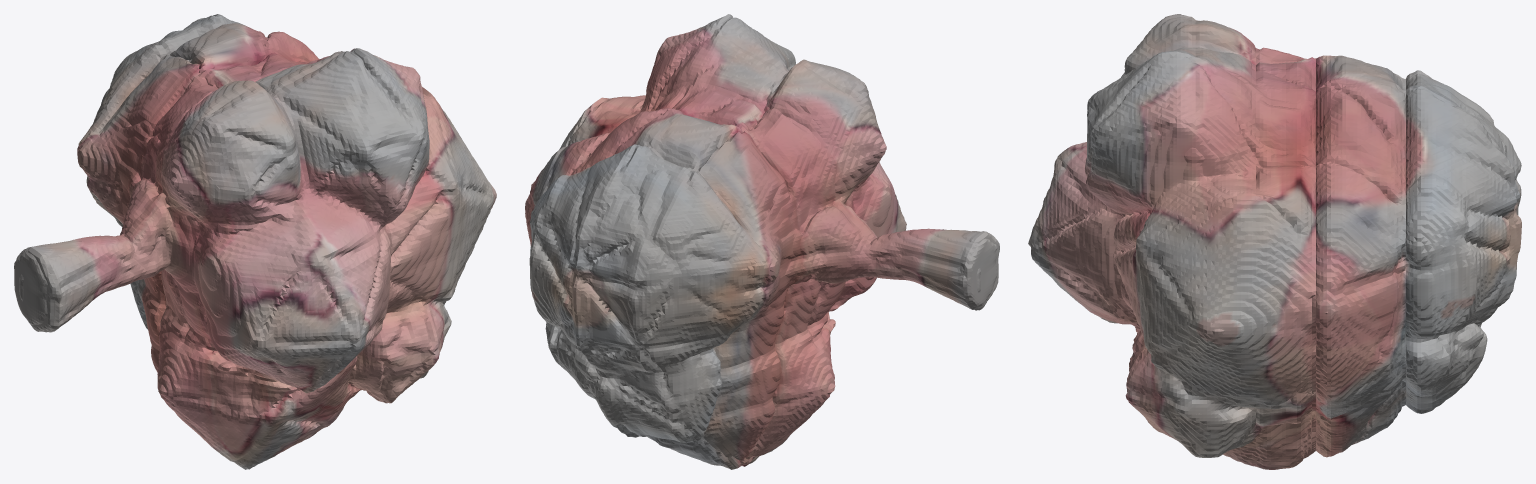
File: tree_tsr.glb
The picture shows the model from 3 angles, left to right: view 1: azimuth 30°, elevation 25°; view 2: azimuth 150°, elevation 25°; view 3: azimuth 270°, elevation 25°; orthographic projection. The views are drawn at different scales.
Parts seen in each view (by area): view 1: geometry_0; view 2: geometry_0; view 3: geometry_0.
Part boxes in pixels (x1,y1,x2,y2): geometry_0: [14, 14, 496, 469]; geometry_0: [525, 14, 999, 469]; geometry_0: [1028, 14, 1521, 469].
Bounding box in the file's own units: 1.01 × 0.8711 × 0.8978.
